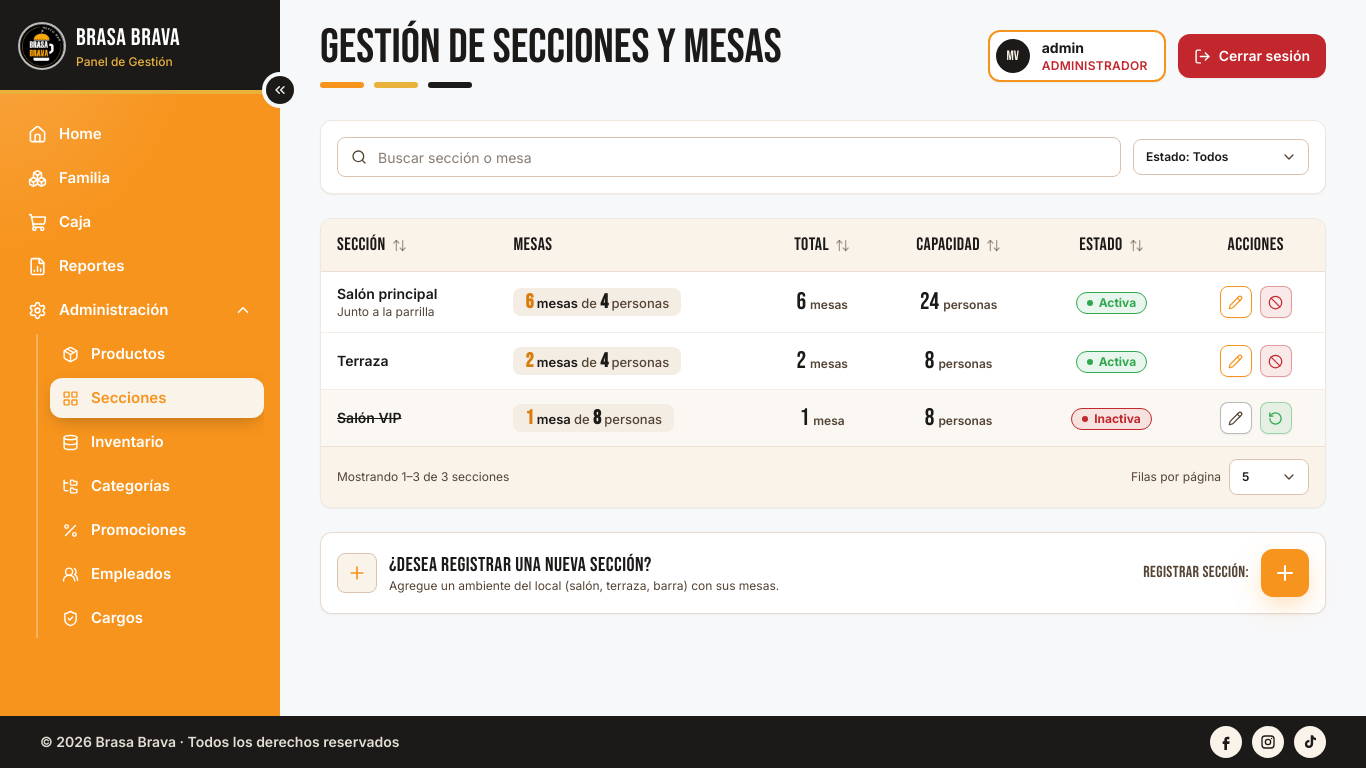
Gestión de secciones y mesas › confirma antes de dar de baja
Check: the text "Salón principal" is shown, box [337, 285, 437, 302]
Click the button named "Dar de baja Salón principal". click: (1276, 302)
box: [1260, 286, 1292, 318]
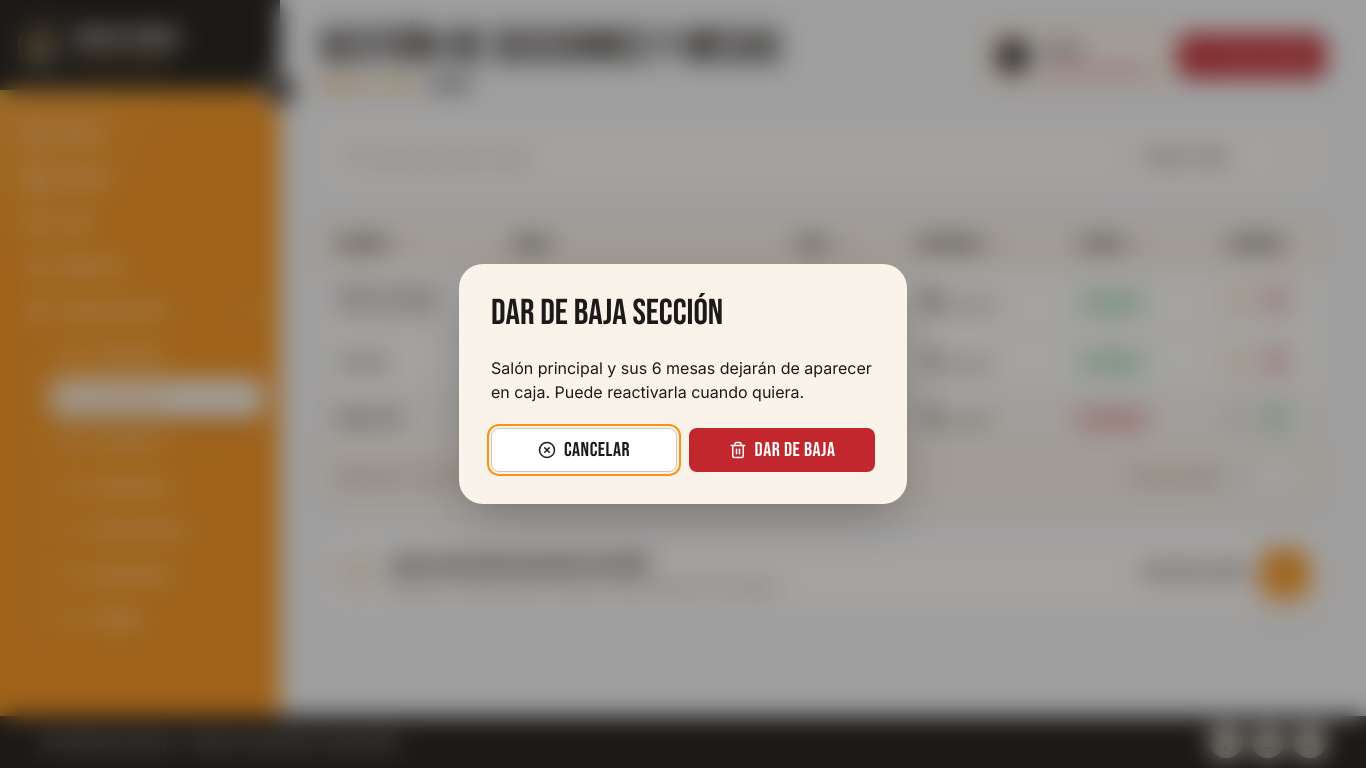
Check: the text "sus 6 mesas dejarán de aparecer en caja" is shown, box [491, 358, 872, 402]
Click the button "Dar de baja". click: (782, 450)
box: [689, 428, 875, 472]
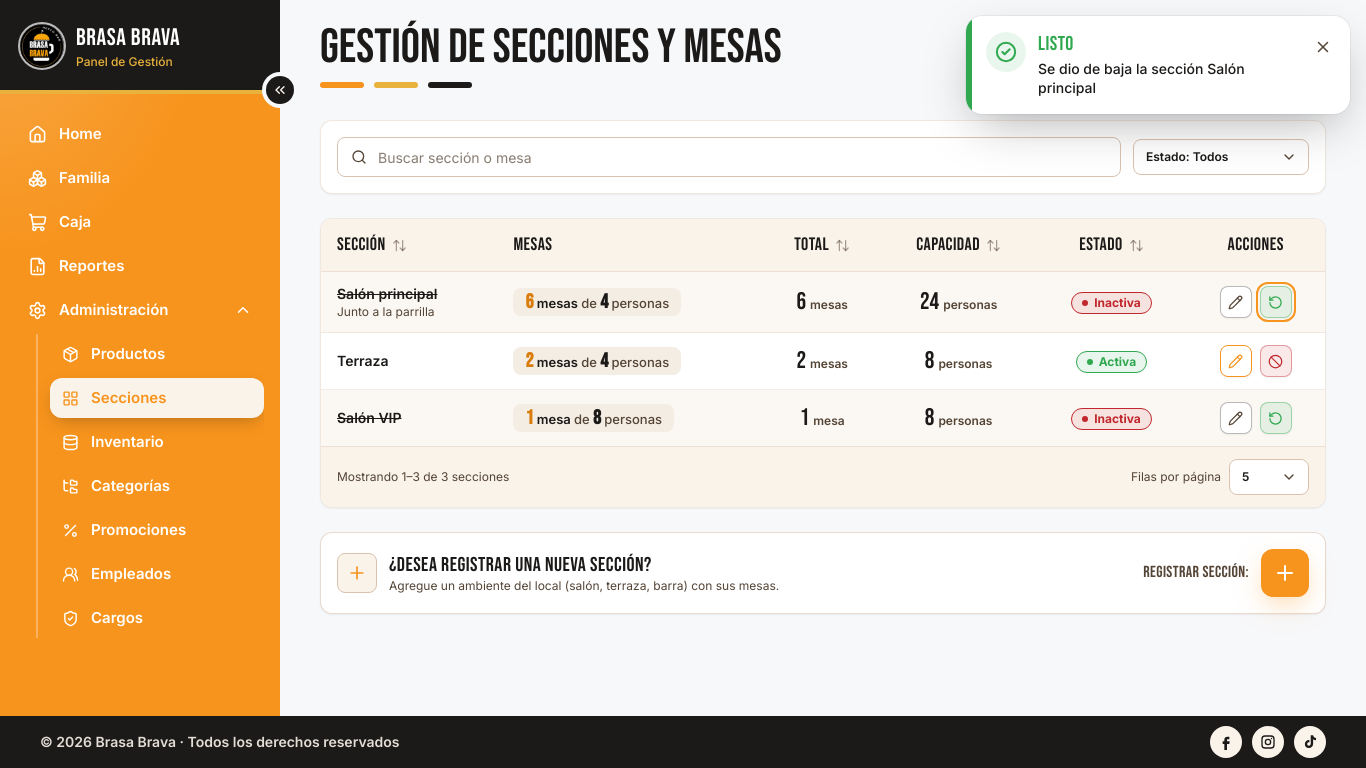
Check: the text "Se dio de baja la sección Salón principal" is shown, box [1038, 60, 1245, 96]
Check: the text "Inactiva" is shown, box [1071, 292, 1152, 314]
